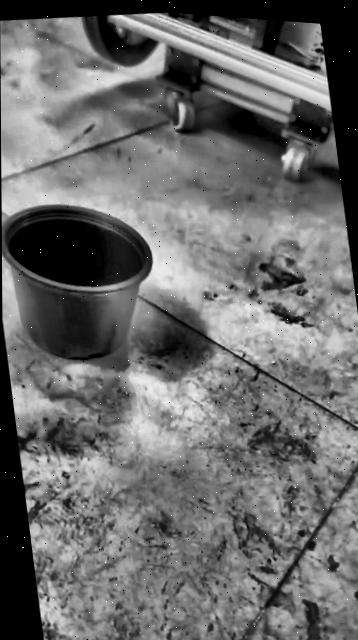pot: (1, 189, 163, 372)
